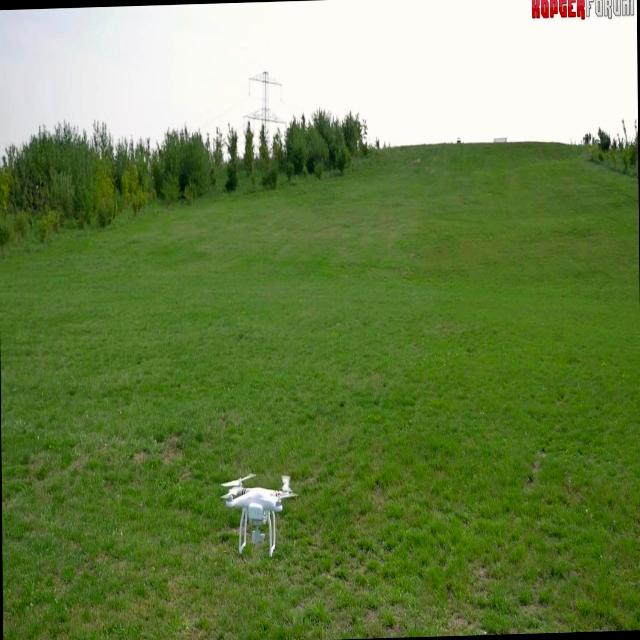drone: (224, 467, 290, 555)
